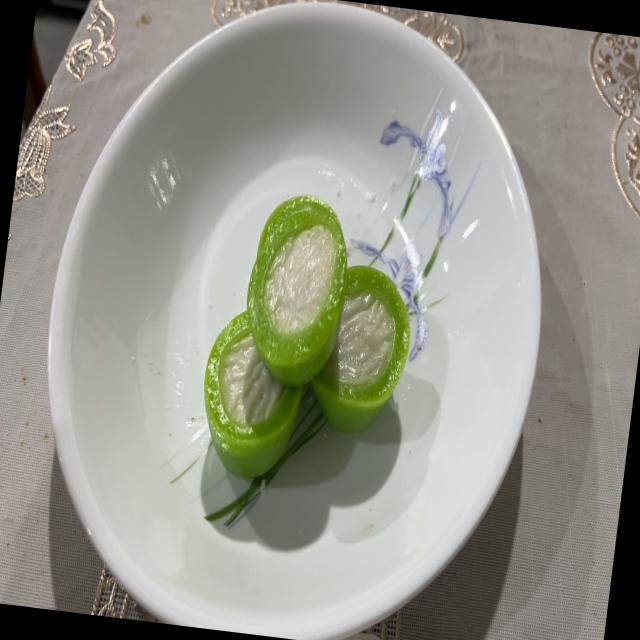nona-manis: (247, 198, 346, 386), (311, 266, 410, 433), (286, 421, 289, 423)
